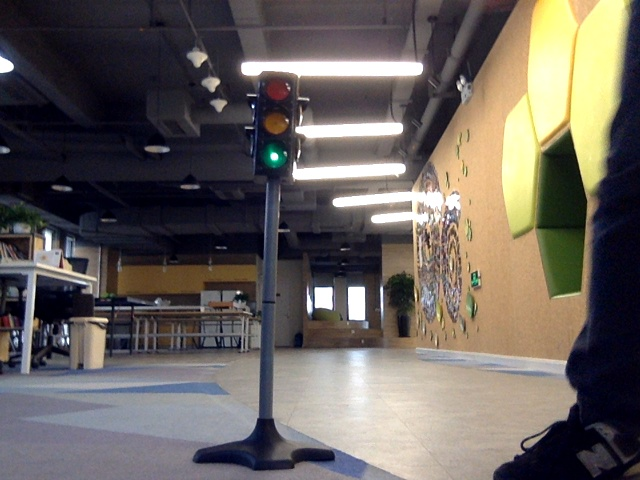green: (259, 76, 290, 171)
